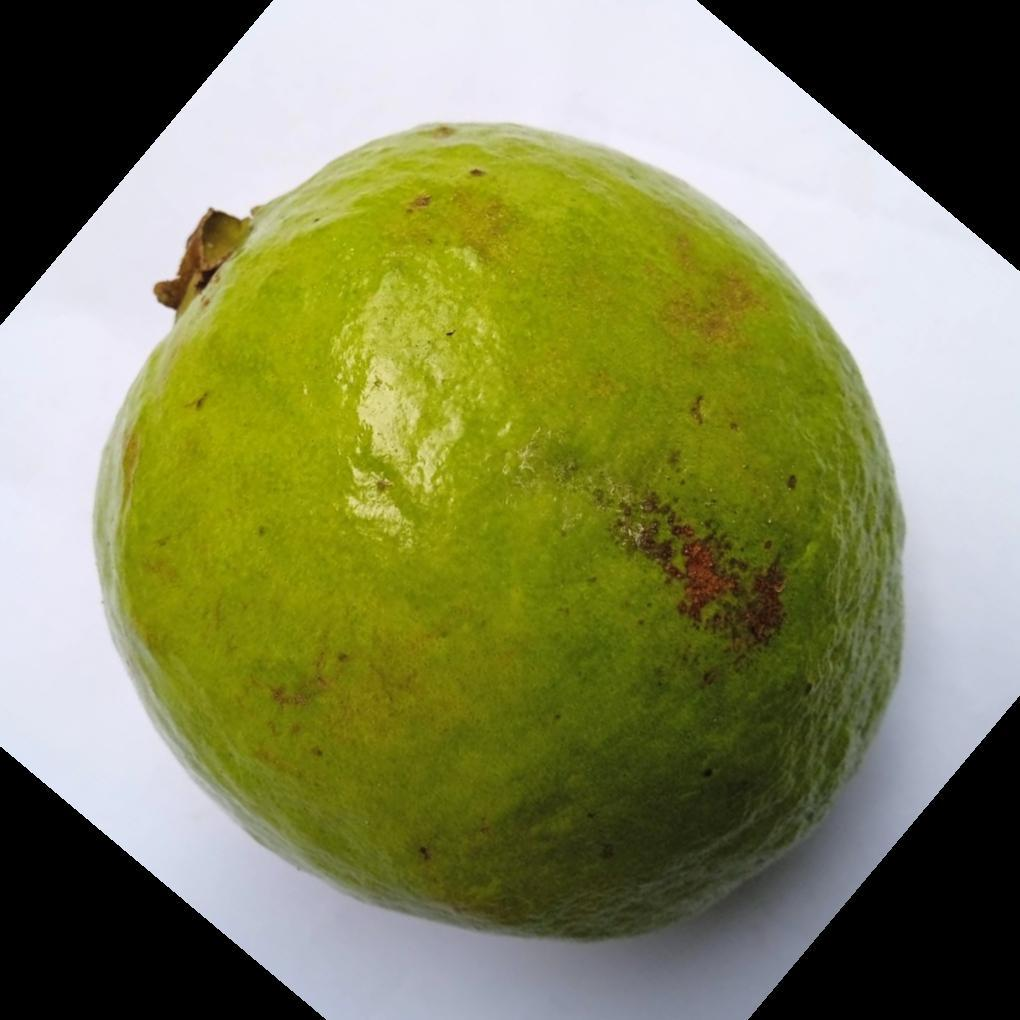FreshGuava: (90, 123, 906, 947)
